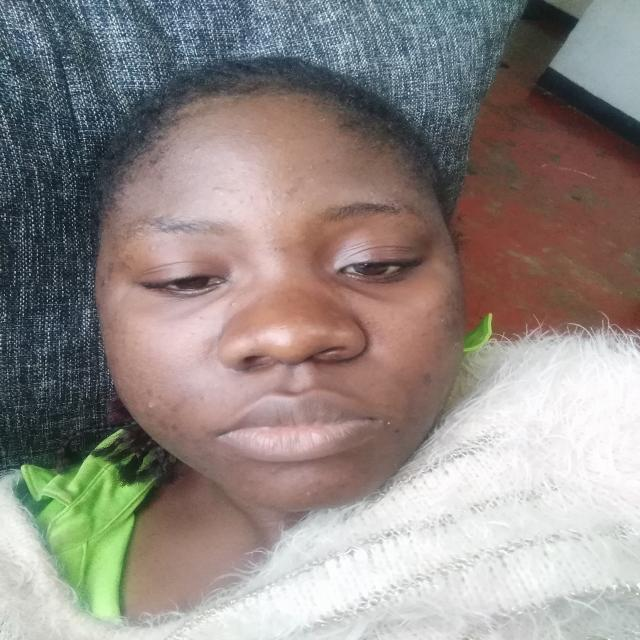Acne: (235, 193, 255, 206), (421, 370, 434, 386), (276, 166, 296, 176), (191, 141, 205, 154), (106, 262, 116, 280), (220, 201, 232, 216), (306, 478, 328, 486), (154, 172, 167, 185), (206, 185, 224, 194), (156, 417, 167, 431), (262, 468, 277, 477), (278, 192, 291, 202), (452, 337, 462, 350), (300, 490, 313, 500), (242, 476, 255, 486), (120, 261, 132, 271), (132, 338, 144, 348), (121, 253, 138, 260), (423, 308, 433, 319), (169, 423, 179, 432), (145, 386, 154, 396), (226, 300, 237, 308), (368, 188, 379, 196), (100, 277, 107, 289), (149, 244, 157, 252), (275, 210, 284, 217), (440, 315, 446, 325), (335, 484, 345, 490), (196, 316, 204, 323), (148, 403, 156, 410), (198, 395, 205, 403), (244, 128, 252, 135), (310, 164, 316, 169)
